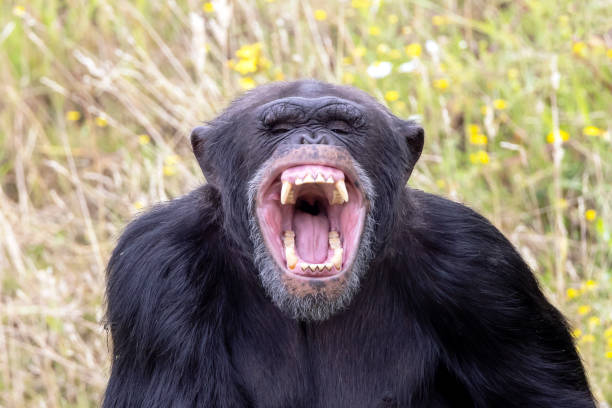chimpanzee: (162, 64, 440, 329)
